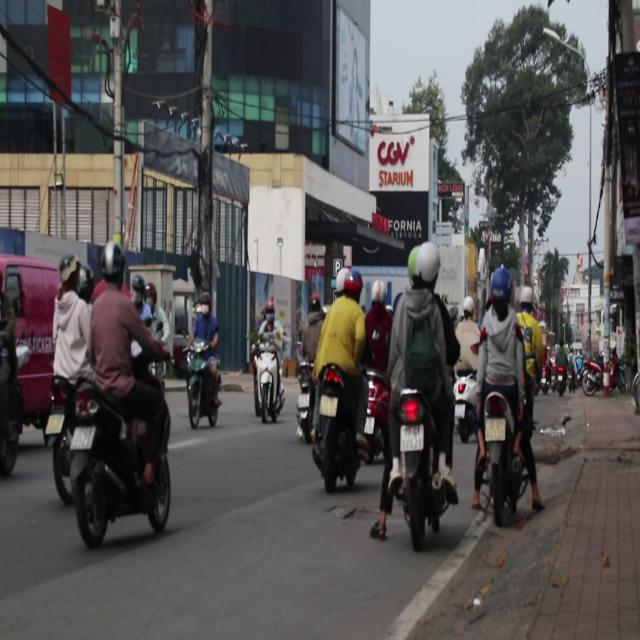motorbike: (49, 371, 175, 546), (388, 378, 449, 554), (481, 377, 523, 524), (314, 358, 356, 486), (184, 340, 223, 427), (254, 348, 280, 431), (296, 362, 317, 443)
truck: (0, 245, 77, 447)
